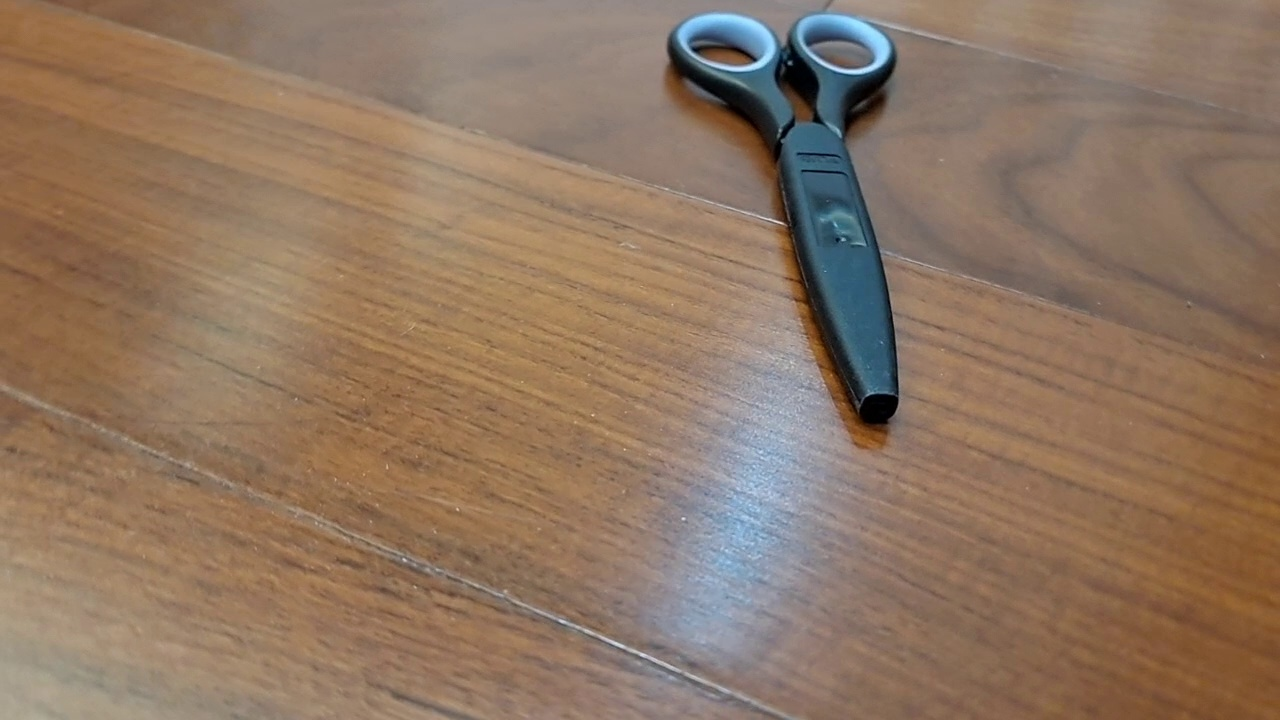scissors: (666, 11, 900, 423)
